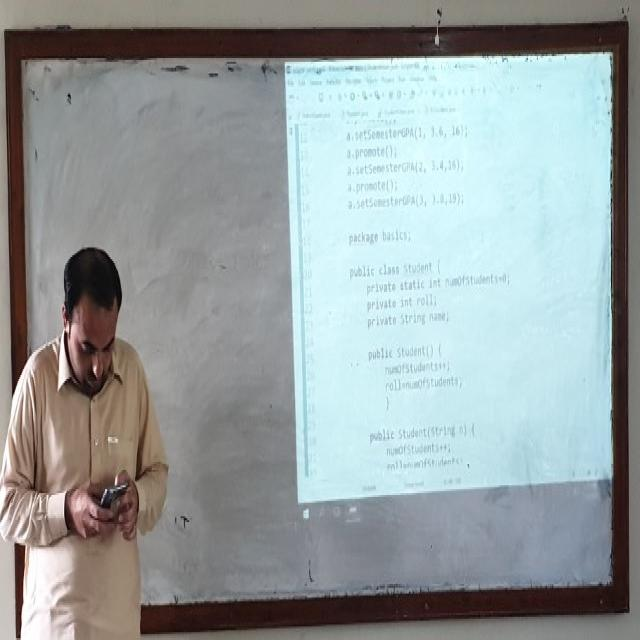Instructor: (12, 231, 148, 629)
Slide: (284, 56, 611, 527)
White-board: (12, 32, 623, 624)
